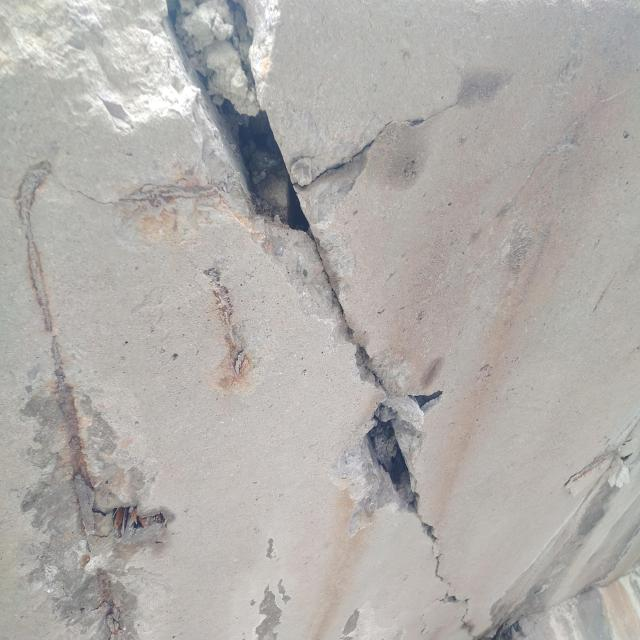concrete spalling: (158, 0, 444, 542), (18, 382, 147, 640), (0, 0, 217, 150), (200, 267, 252, 392), (113, 501, 172, 539)
diagonal crack: (294, 94, 463, 189), (430, 541, 474, 640)
horizontal crack: (52, 172, 217, 208)
